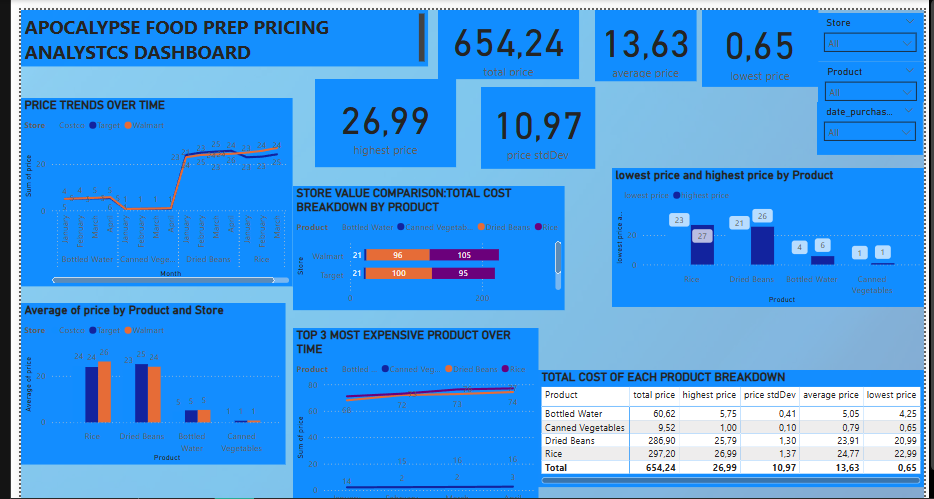

The dashboard page shown, as its layout file describes it:
{"tool":"powerbi","page":{"name":"Page 1","canvas":[1280,720],"ordinal":0},"visuals":[{"type":"lineChart","title":"PRICE TRENDS OVER TIME","fields":{"Series":["Sheet1.Store"],"Y":["Sum(Sheet1.price)"],"Category":["Sheet1.Product","Sheet1.date_purchased.Variation.Date Hierarchy.Month"]},"box":[0,124.9,385,267.4],"z":0},{"type":"clusteredColumnChart","fields":{"Y":["Avg(Sheet1.price)"],"Category":["Sheet1.Product"],"Series":["Sheet1.Store"]},"box":[0,415.8,374.7,229.2],"z":1000},{"type":"card","fields":{"Values":["Sheet1.total price"]},"box":[590.7,0,199.8,98.4],"z":2000},{"type":"card","fields":{"Values":["Sheet1.lowest price"]},"box":[965.4,0,164.6,108.7],"z":3000},{"type":"card","fields":{"Values":["Sheet1.highest price"]},"box":[417.3,98.4,199.8,124.9],"z":4000},{"type":"card","fields":{"Values":["Sheet1.average price"]},"box":[814,0,144,101.4],"z":5000},{"type":"card","fields":{"Values":["Sheet1.price stdDev"]},"box":[652.4,108.7,161.6,116.1],"z":6000},{"type":"lineClusteredColumnComboChart","fields":{"Category":["Sheet1.Product"],"Y":["Sheet1.lowest price","Sheet1.highest price"]},"box":[837.6,223.3,442.3,196.9],"z":7000},{"type":"pivotTable","title":"TOTAL COST OF EACH PRODUCT BREAKDOWN","fields":{"Rows":["Sheet1.Product"],"Values":["Sheet1.total price","Sheet1.highest price","Sheet1.price stdDev","Sheet1.average price","Sheet1.lowest price"]},"box":[733.2,509.9,546.6,166],"z":8000},{"type":"slicer","fields":{"Values":["Sheet1.Store"]},"box":[1128.5,4.4,151.3,69.1],"z":9000},{"type":"slicer","fields":{"Values":["Sheet1.Product"]},"box":[1130,73.5,149.9,57.3],"z":10000},{"type":"slicer","fields":{"Values":["Sheet1.date_purchased"]},"box":[1128.5,130.8,149.9,74.9],"z":11000},{"type":"textbox","box":[0,0,576.9,79.5],"z":12000},{"type":"barChart","title":"STORE VALUE COMPARISON:TOTAL COST BREAKDOWN BY PRODUCT","fields":{"Category":["Sheet1.Store"],"Y":["Sum(Sheet1.price)"],"Series":["Sheet1.Product"]},"box":[385,249.8,385,176.3],"z":13000},{"type":"lineChart","title":"TOP 3 MOST EXPENSIVE PRODUCT OVER TIME","fields":{"Category":["Sheet1.date_purchased.Variation.Date Hierarchy.Month"],"Y":["Sum(Sheet1.price)"],"Series":["Sheet1.Product"]},"box":[385,451.1,348.2,268.9],"z":14000}]}

Visuals, with their boxes on the page's 1280x720 design canvas (x1, y1, x2, y2). These are canvas units, not pixel positions in the 934x499 screenshot, which may show the page scaled, cropped or inside an application window:
"PRICE TRENDS OVER TIME" lineChart: (0,125,385,392)
clusteredColumnChart - Avg(Sheet1.price) x Sheet1.Product: (0,416,375,645)
card - Sheet1.total price: (591,0,790,98)
card - Sheet1.lowest price: (965,0,1130,109)
card - Sheet1.highest price: (417,98,617,223)
card - Sheet1.average price: (814,0,958,101)
card - Sheet1.price stdDev: (652,109,814,225)
lineClusteredColumnComboChart - Sheet1.Product x Sheet1.lowest price: (838,223,1280,420)
"TOTAL COST OF EACH PRODUCT BREAKDOWN" pivotTable: (733,510,1280,676)
slicer - Sheet1.Store: (1128,4,1280,74)
slicer - Sheet1.Product: (1130,74,1280,131)
slicer - Sheet1.date_purchased: (1128,131,1278,206)
textbox: (0,0,577,80)
"STORE VALUE COMPARISON:TOTAL COST BREAKDOWN BY PRODUCT" barChart: (385,250,770,426)
"TOP 3 MOST EXPENSIVE PRODUCT OVER TIME" lineChart: (385,451,733,720)
